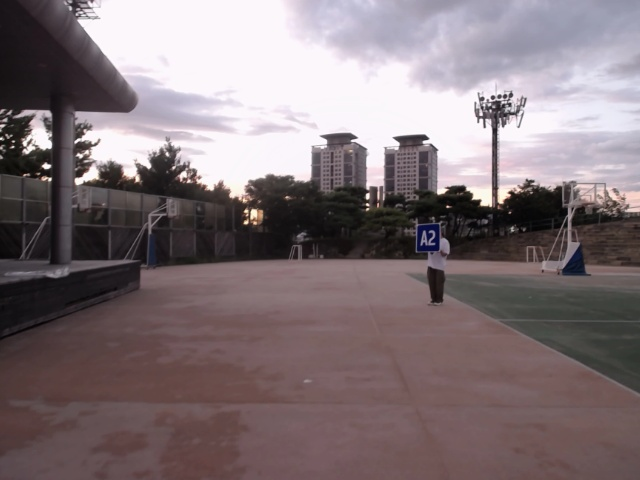delivery_a2: (417, 223, 440, 252)
